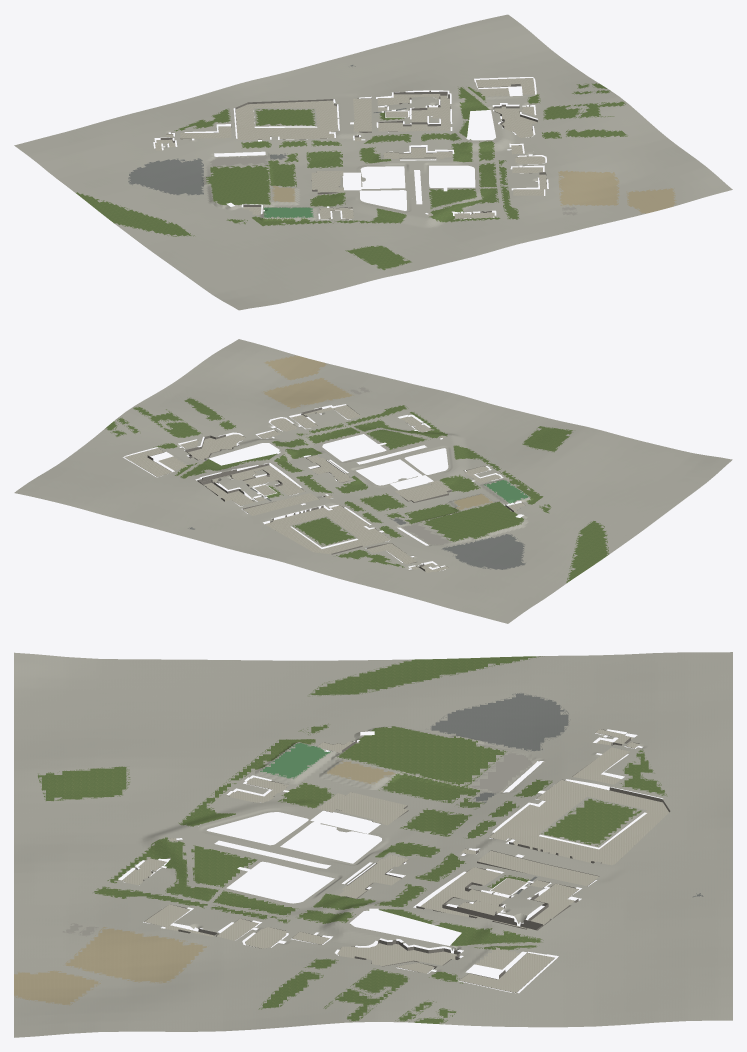
The picture shows the model from 3 angles, top to bottom: view 1: azimuth 30°, elevation 25°; view 2: azimuth 150°, elevation 25°; view 3: azimuth 270°, elevation 25°; orthographic projection. The views are drawn at different scales.
Parts seen in each view (by area): view 1: inha-base, inha-paving, inha-grass, inha-dirtField, inha-wood, inha-asphalt, inha-pitchTurf, annex60__exteriorFoundationClosure, inha-grass-overlay, inha-hardcourt, inha-courtGreen; view 2: inha-base, inha-paving, inha-grass, inha-dirtField, inha-pitchTurf, inha-wood, inha-asphalt, annex60__exteriorFoundationClosure, inha-grass-overlay, inha-hardcourt, inha-courtGreen; view 3: inha-base, inha-paving, inha-grass, inha-dirtField, inha-pitchTurf, inha-wood, inha-asphalt, annex60__exteriorFoundationClosure, inha-grass-overlay, inha-hardcourt, inha-courtGreen, inha-wood-overlay.
Boxes of the visible parts, <box> form: inha-base: <box>14,14,732,310</box>; inha-paving: <box>155,78,547,219</box>; inha-grass: <box>76,87,539,269</box>; inha-dirtField: <box>272,171,675,213</box>; inha-wood: <box>228,83,626,223</box>; inha-asphalt: <box>129,65,406,194</box>; inha-pitchTurf: <box>206,165,270,204</box>; annex60__exteriorFoundationClosure: <box>160,78,546,219</box>; inha-grass-overlay: <box>77,87,540,268</box>; inha-hardcourt: <box>210,156,576,214</box>; inha-courtGreen: <box>264,207,312,217</box>; inha-base: <box>14,339,732,623</box>; inha-paving: <box>125,405,525,572</box>; inha-grass: <box>156,405,608,581</box>; inha-dirtField: <box>263,355,491,509</box>; inha-pitchTurf: <box>420,502,523,541</box>; inha-wood: <box>106,398,550,545</box>; inha-asphalt: <box>190,488,525,569</box>; annex60__exteriorFoundationClosure: <box>129,405,522,571</box>; inha-grass-overlay: <box>153,406,609,582</box>; inha-hardcourt: <box>350,387,449,544</box>; inha-courtGreen: <box>486,480,528,503</box>; inha-base: <box>14,652,732,1037</box>; inha-paving: <box>122,729,668,992</box>; inha-grass: <box>38,656,664,981</box>; inha-dirtField: <box>14,761,395,1004</box>; inha-pitchTurf: <box>337,726,505,786</box>; inha-wood: <box>263,725,636,1023</box>; inha-asphalt: <box>431,693,700,896</box>; annex60__exteriorFoundationClosure: <box>124,729,670,992</box>; inha-grass-overlay: <box>38,656,667,983</box>; inha-hardcourt: <box>66,753,531,935</box>; inha-courtGreen: <box>263,743,330,778</box>; inha-wood-overlay: <box>258,723,641,1024</box>.
Bounding box in the file's own units: 908 × 29.17 × 716.
22 materials, 15 textured.
